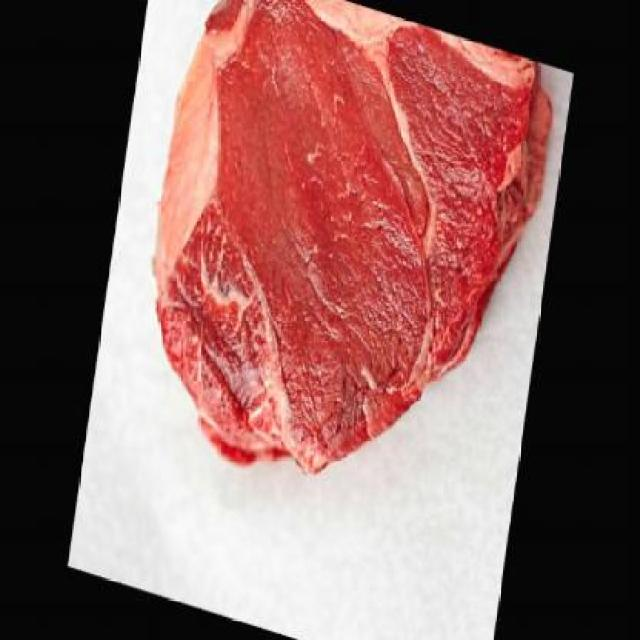beef: (121, 0, 562, 548)
